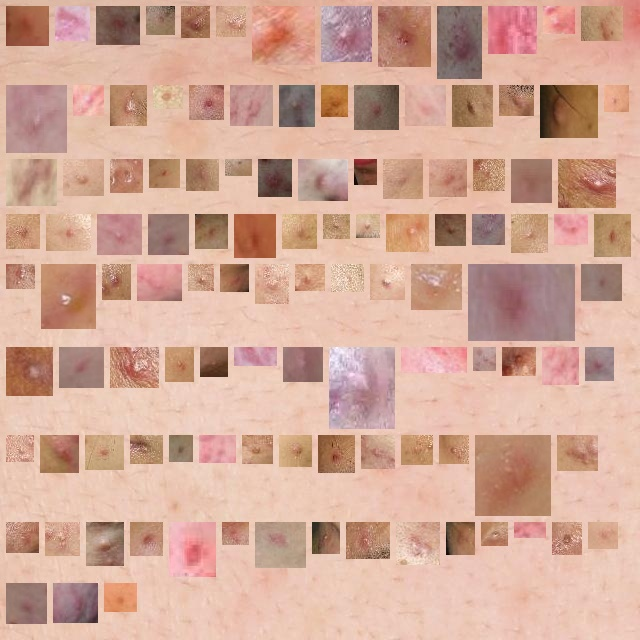papule: (476, 272, 567, 333), (483, 443, 543, 508), (337, 355, 387, 421), (14, 93, 59, 145), (260, 14, 307, 57), (49, 272, 88, 321), (386, 14, 423, 59), (445, 14, 474, 71), (548, 93, 590, 130), (329, 14, 364, 54), (566, 167, 608, 200), (177, 530, 208, 569), (14, 167, 49, 198), (496, 14, 529, 46), (419, 272, 454, 302), (263, 530, 298, 560), (14, 355, 45, 388), (409, 347, 459, 365), (306, 167, 340, 193), (362, 93, 391, 122), (118, 355, 151, 380), (404, 530, 432, 557), (242, 222, 268, 250), (105, 222, 134, 247), (67, 355, 96, 380), (519, 167, 544, 195), (61, 591, 90, 615), (238, 93, 265, 118), (460, 93, 485, 119), (14, 14, 41, 38), (104, 14, 132, 37), (413, 93, 438, 118), (156, 222, 181, 247), (14, 591, 39, 616), (94, 530, 116, 558), (54, 222, 83, 243), (145, 272, 174, 293), (394, 222, 421, 244), (354, 530, 382, 551), (391, 167, 415, 191), (602, 222, 623, 249), (118, 93, 139, 118), (71, 167, 96, 188), (589, 272, 614, 293), (287, 93, 307, 119), (48, 443, 71, 465), (565, 443, 590, 463), (589, 14, 615, 33), (437, 167, 459, 189), (519, 222, 540, 245), (550, 355, 571, 377), (326, 443, 347, 465), (291, 355, 315, 374), (93, 443, 116, 462), (263, 272, 281, 296), (266, 167, 284, 189), (378, 272, 397, 292), (63, 14, 82, 33), (197, 93, 216, 112), (290, 222, 309, 241), (14, 222, 32, 241), (53, 530, 72, 548), (510, 355, 528, 373), (369, 443, 387, 461), (203, 222, 220, 241), (118, 167, 135, 185), (138, 530, 155, 548), (507, 93, 526, 108), (194, 167, 211, 183), (287, 443, 304, 459), (562, 222, 580, 237), (242, 355, 269, 365), (110, 272, 123, 292), (481, 167, 497, 183), (480, 222, 497, 237), (14, 530, 31, 545), (207, 443, 228, 455), (173, 355, 186, 374), (443, 222, 458, 238), (560, 530, 574, 547), (593, 355, 606, 373), (81, 93, 96, 108), (409, 443, 425, 457), (138, 443, 155, 456), (454, 530, 467, 547), (112, 591, 129, 604), (224, 14, 238, 29), (189, 14, 202, 30), (339, 272, 356, 284), (157, 167, 172, 180), (250, 443, 265, 456), (551, 14, 567, 26), (320, 530, 332, 546), (447, 443, 461, 456), (329, 93, 340, 109), (154, 14, 167, 27), (208, 355, 220, 369), (228, 272, 241, 284), (303, 272, 317, 283), (596, 530, 610, 541), (14, 443, 26, 454), (14, 272, 27, 281), (161, 93, 175, 101), (522, 530, 538, 537), (196, 272, 206, 283), (612, 93, 621, 104), (331, 222, 342, 231), (177, 443, 185, 454), (489, 530, 500, 538), (230, 530, 241, 537), (362, 167, 369, 177), (364, 222, 372, 230), (481, 355, 488, 363)
